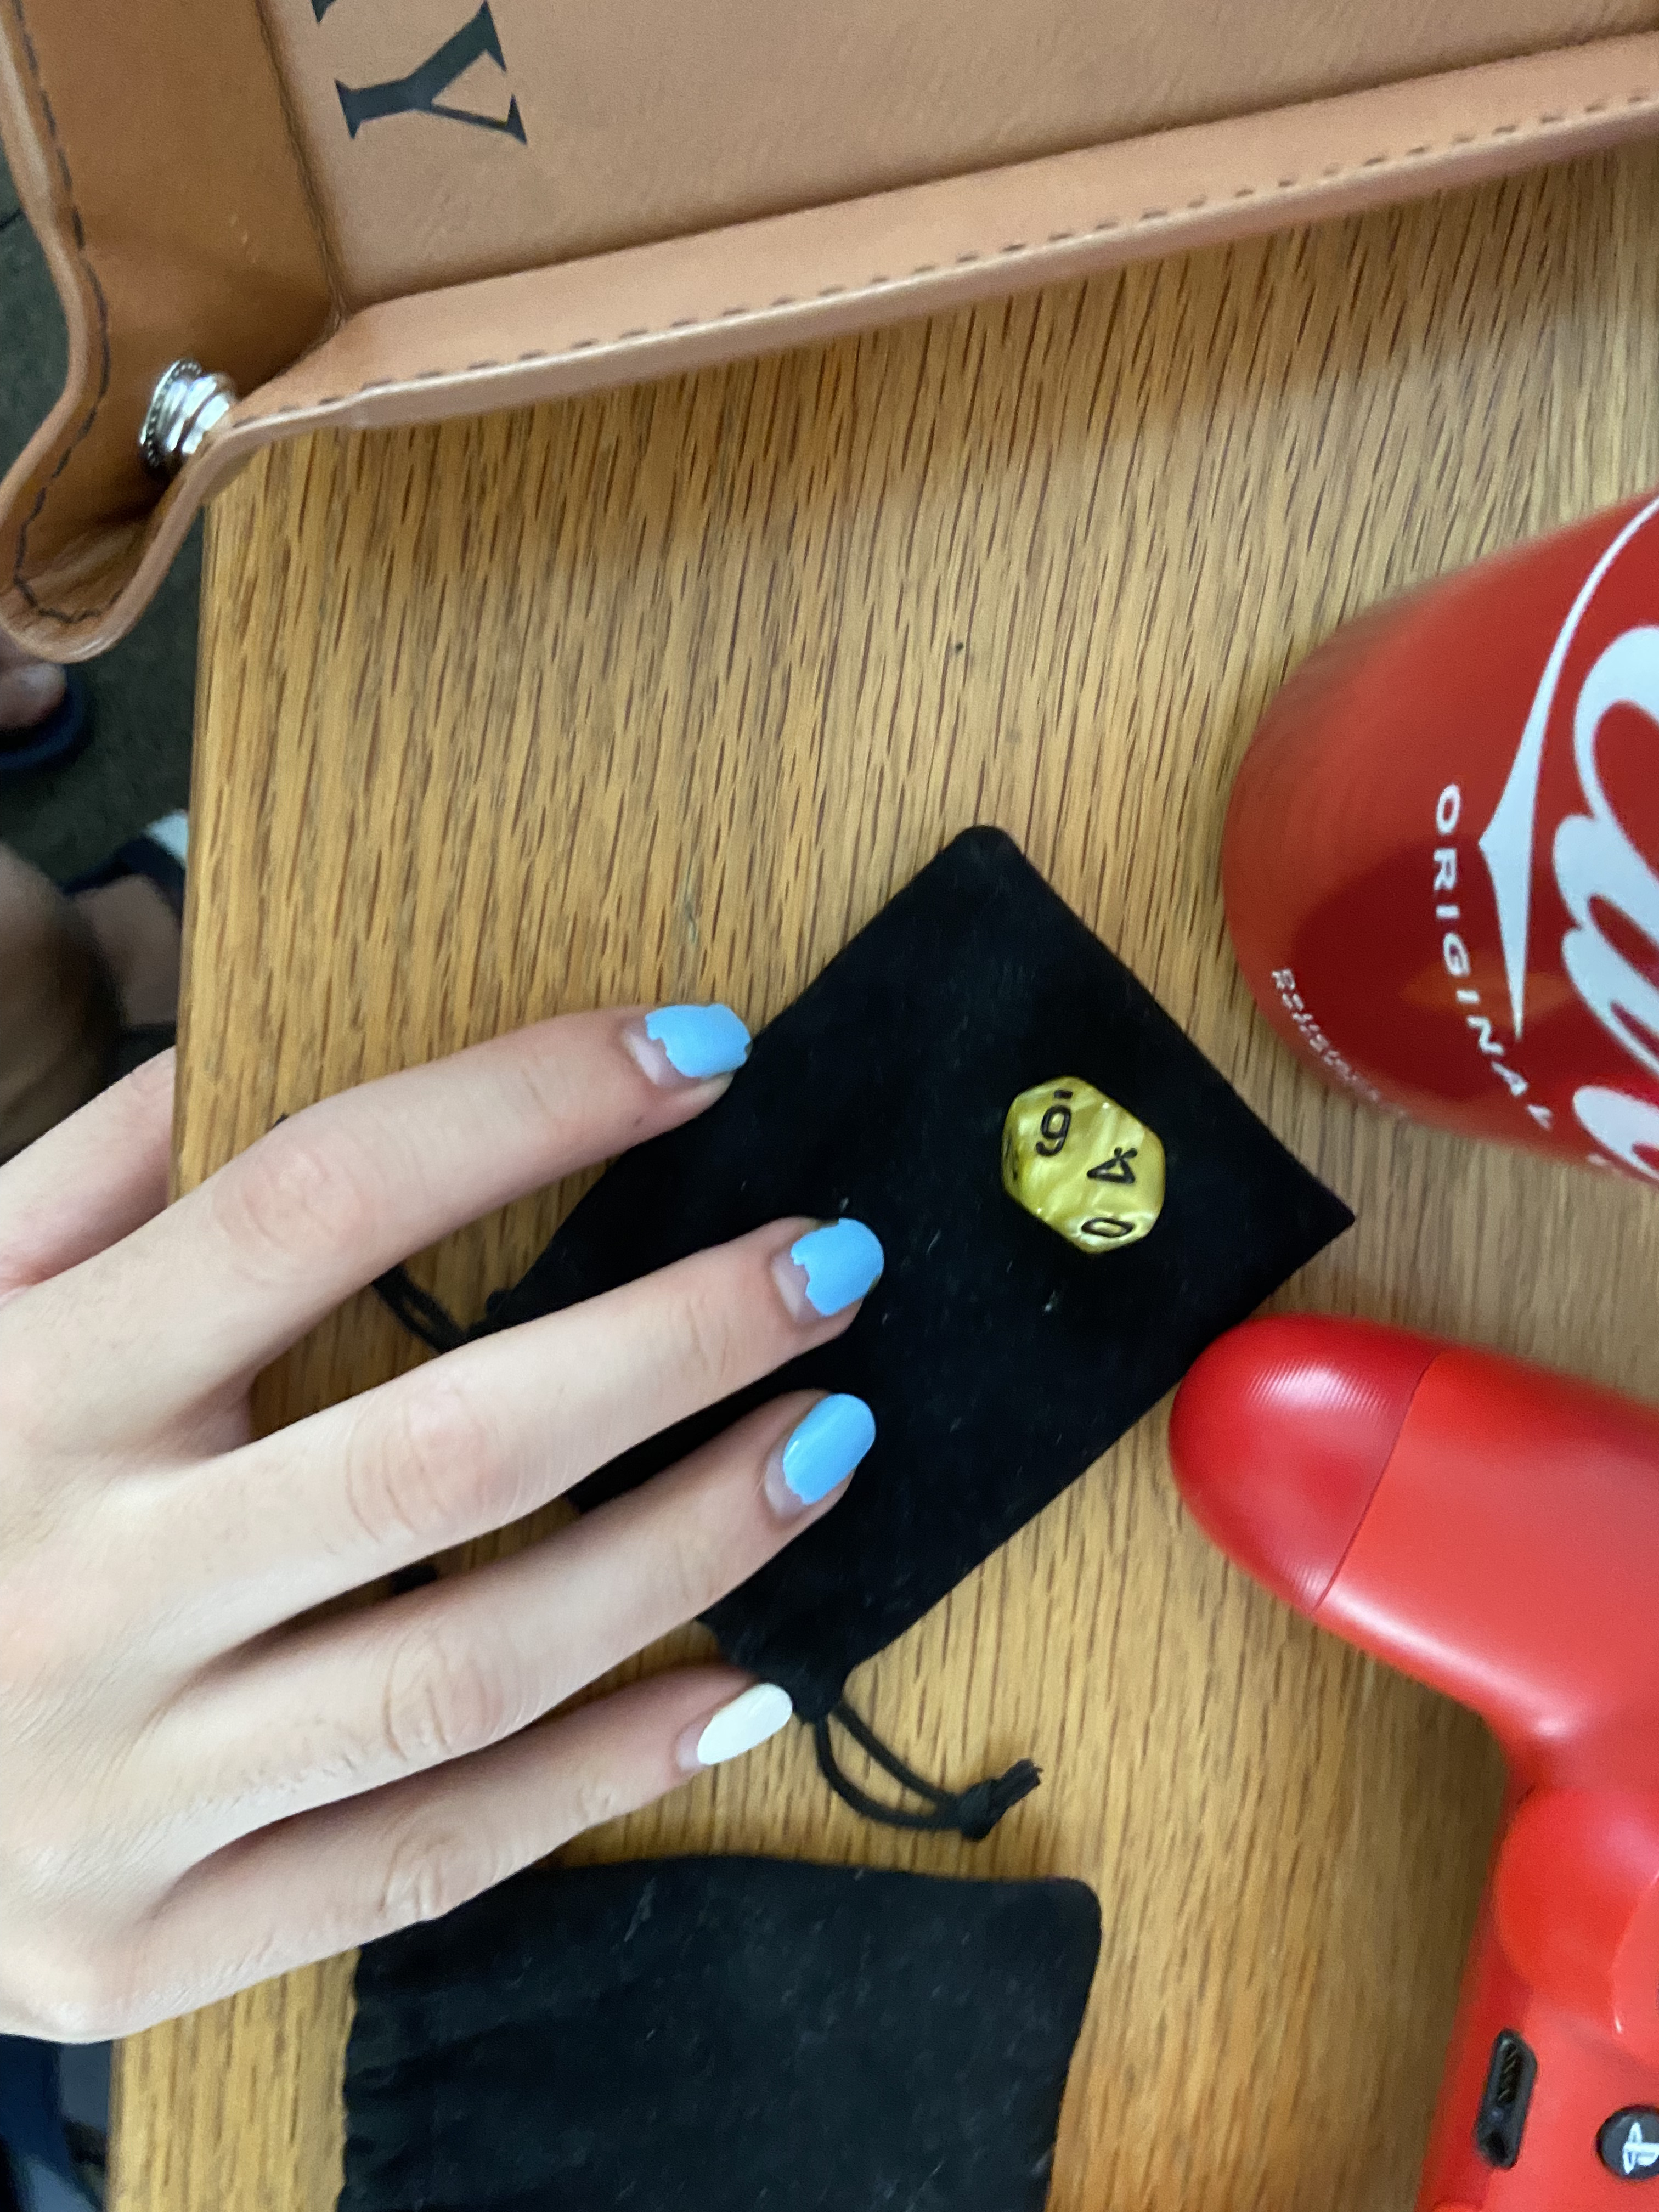four: (958, 1024, 1243, 1313)
